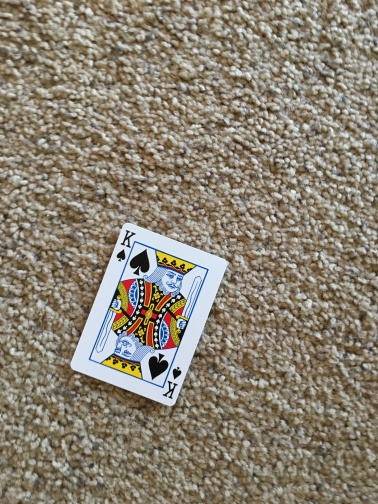king: (69, 220, 228, 406)
